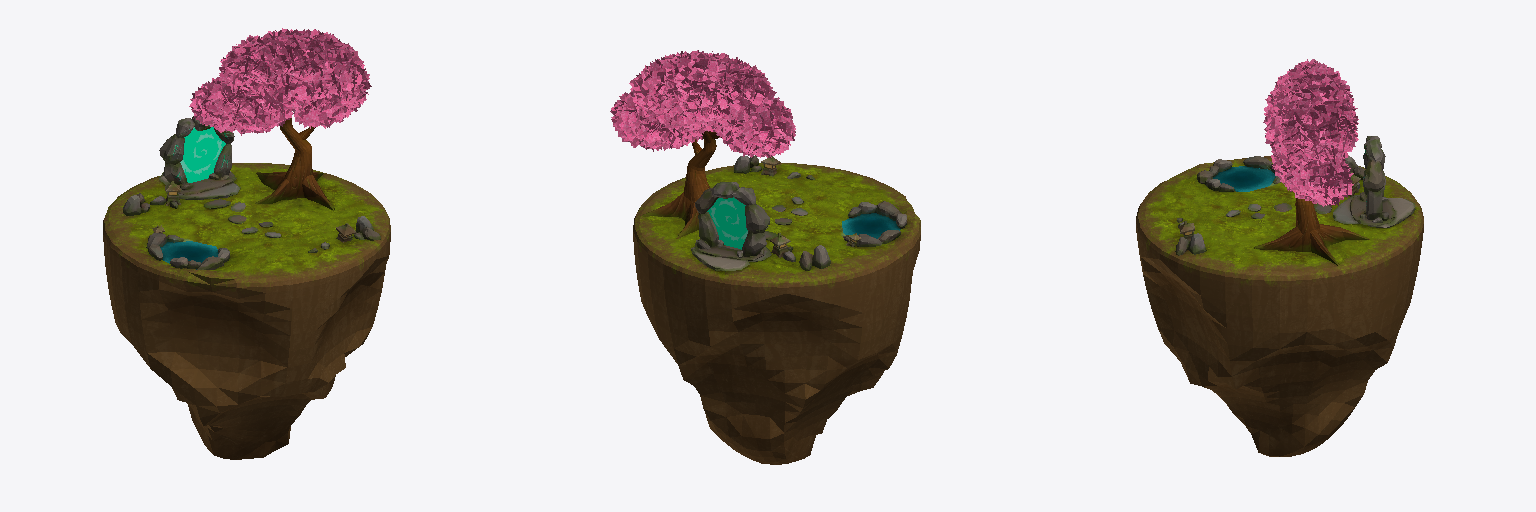
3 views of the same model, side by side, from view 1: azimuth 30°, elevation 25°; view 2: azimuth 150°, elevation 25°; view 3: azimuth 270°, elevation 25° (orthographic).
Parts seen in each view (by area): view 1: Ground, Leaves, Stones_Pond, Tree, Woosh_02_Circle.002, Water_Bushes.001, Leaves_bollen_Leaves.001; view 2: Ground, Leaves, Stones_Pond, Tree, Woosh_02_Circle.002, Water_Bushes.001; view 3: Ground, Leaves, Stones_Pond, Tree, Water_Bushes.001.
Part boxes in pixels (x1,y1,x2,y2): Ground: (103, 163, 390, 459); Leaves: (189, 28, 371, 135); Stones_Pond: (123, 116, 380, 269); Tree: (255, 118, 334, 209); Woosh_02_Circle.002: (180, 127, 225, 182); Water_Bushes.001: (160, 241, 218, 269); Leaves_bollen_Leaves.001: (193, 50, 344, 122); Ground: (633, 163, 920, 464); Leaves: (610, 50, 795, 157); Stones_Pond: (691, 155, 906, 271); Tree: (642, 131, 721, 238); Woosh_02_Circle.002: (707, 197, 747, 249); Water_Bushes.001: (842, 213, 900, 238); Ground: (1136, 156, 1423, 456); Leaves: (1263, 59, 1358, 206); Stones_Pond: (1175, 136, 1415, 255); Tree: (1254, 198, 1369, 265); Water_Bushes.001: (1213, 166, 1275, 191).
Bounding box in the file's own units: 42.72 × 60.76 × 39.65.
Materials: 5 (5 with a texture image).